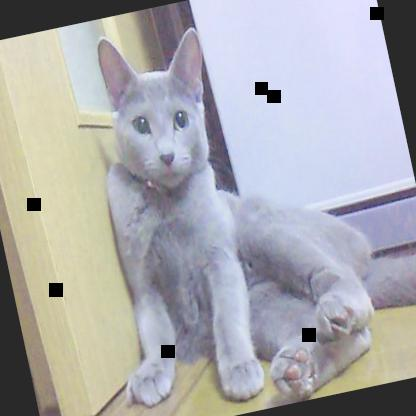cat: (60, 0, 400, 415)
